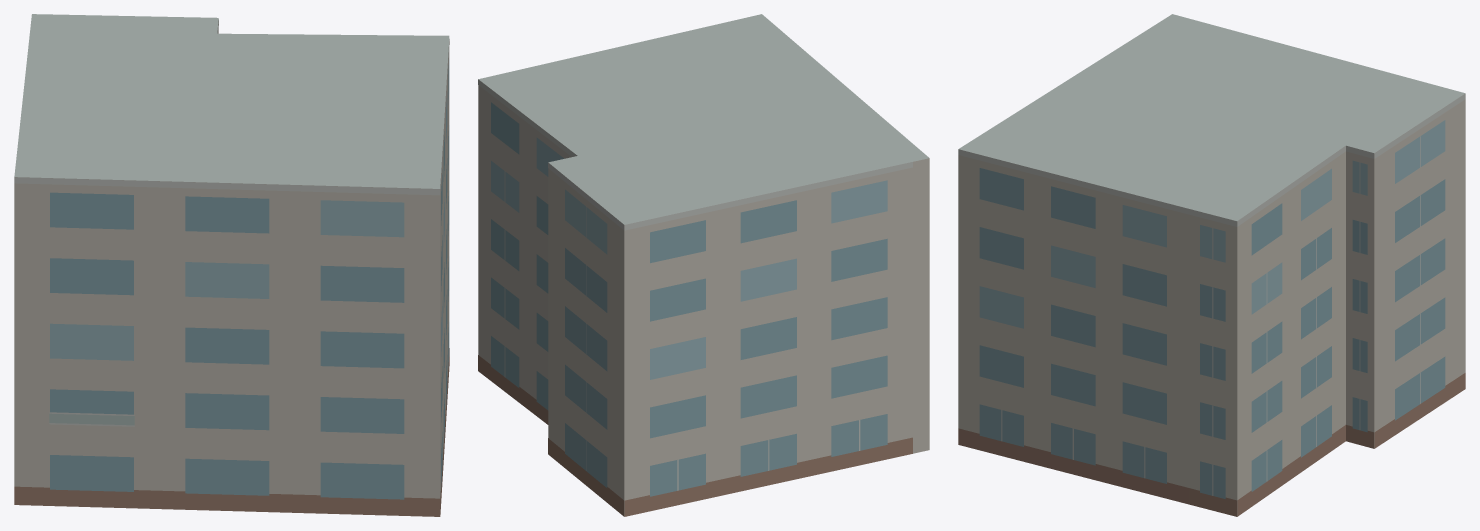
The model's file is survey-upis-32747268.glb.
3 renders of one model, left to right at view 1: azimuth 30°, elevation 25°; view 2: azimuth 150°, elevation 25°; view 3: azimuth 270°, elevation 25°, orthographic. The views are drawn at different scales.
Parts seen in each view (by area): view 1: survey-upis-32747268.tmp; view 2: survey-upis-32747268.tmp; view 3: survey-upis-32747268.tmp.
Boxes of the visible parts, left/top/right/bottom form: survey-upis-32747268.tmp: left=14, top=14, right=449, bottom=516; survey-upis-32747268.tmp: left=478, top=14, right=929, bottom=516; survey-upis-32747268.tmp: left=958, top=14, right=1465, bottom=516.
Bounding box in the file's own units: 18.8 × 12.5 × 19.45.
